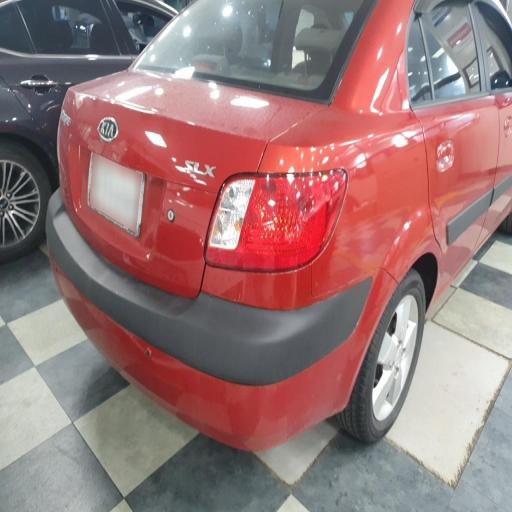broken: (123, 323, 176, 396)
scratch: (236, 100, 395, 247), (427, 90, 485, 151)
